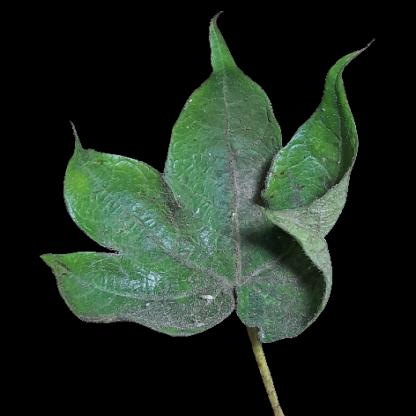curl_stage1: (70, 167, 111, 226)
curl_stage2: (180, 113, 217, 172), (293, 212, 333, 255)
sooty: (217, 146, 278, 238), (245, 261, 311, 332), (141, 182, 209, 241), (138, 291, 236, 328), (166, 248, 245, 291)
